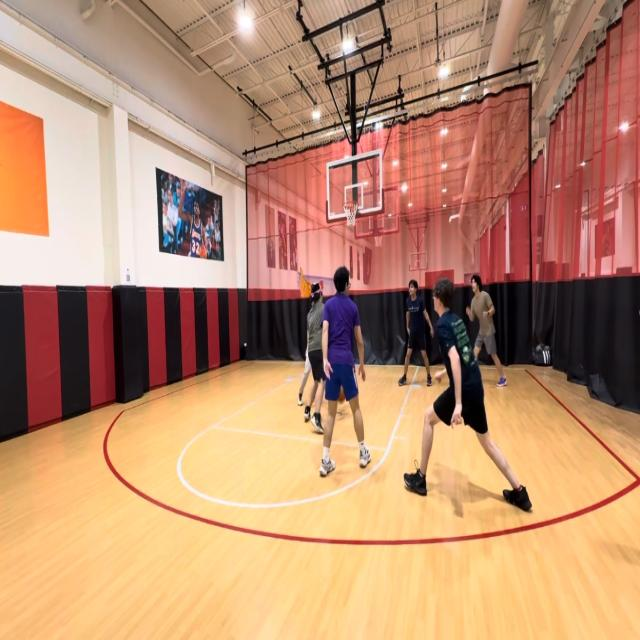Basketball Rim: (343, 201, 358, 229)
